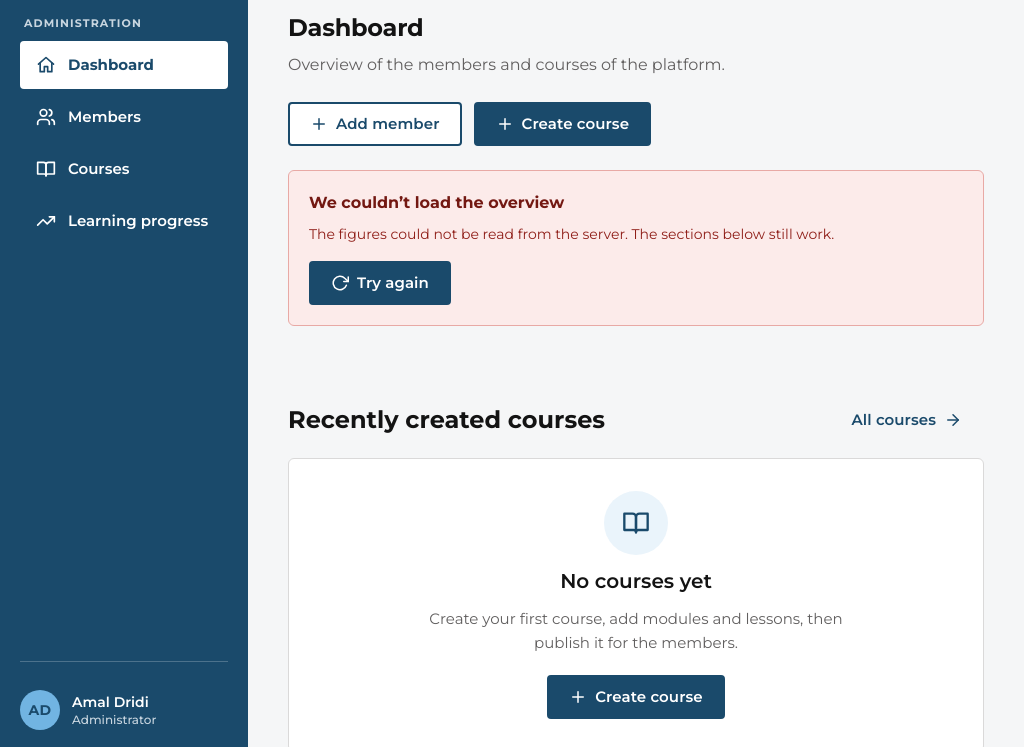
Scenario: profile - entry points › an administrator reaches My profile from the sidebar identity block
(page scrolled)
Check: the heading "Dashboard" is shown, box top-left (288, 13), bottom-right (423, 42)
Click the link with aria-label "My profile — Amal Dridi, Administrator" at {"x": 88, "y": 710}, box top-left (20, 690), bottom-right (156, 730)
(page scrolled)
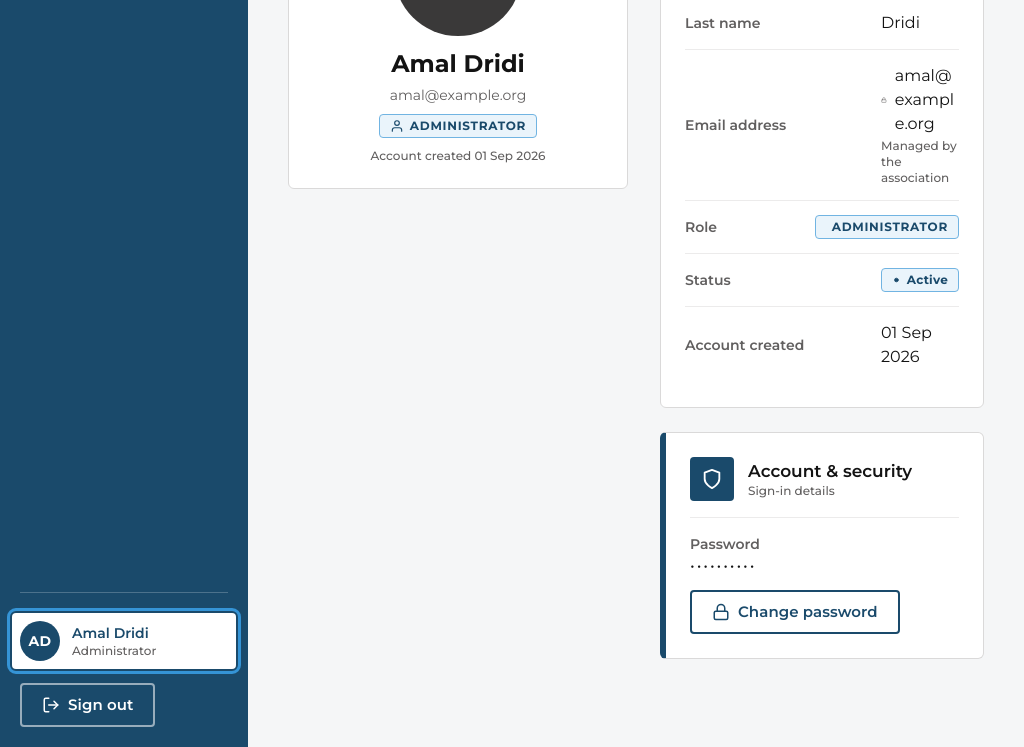
Check: the button "Sign out" is shown, box top-left (20, 683), bottom-right (156, 727)
Check: the 1st text "ADMINISTRATOR" is shown, box top-left (410, 118), bottom-right (526, 134)
